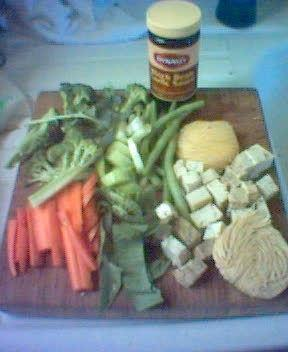broccoli: (28, 138, 106, 208), (3, 120, 66, 169), (47, 119, 107, 163), (21, 149, 88, 187), (118, 84, 152, 114), (72, 84, 96, 106), (83, 104, 101, 120)
carrot: (61, 224, 98, 290), (42, 196, 64, 267), (25, 205, 45, 268), (55, 182, 72, 224), (6, 220, 16, 278), (72, 182, 82, 230), (16, 232, 28, 272), (84, 211, 100, 235), (83, 186, 96, 209), (56, 209, 70, 227)
